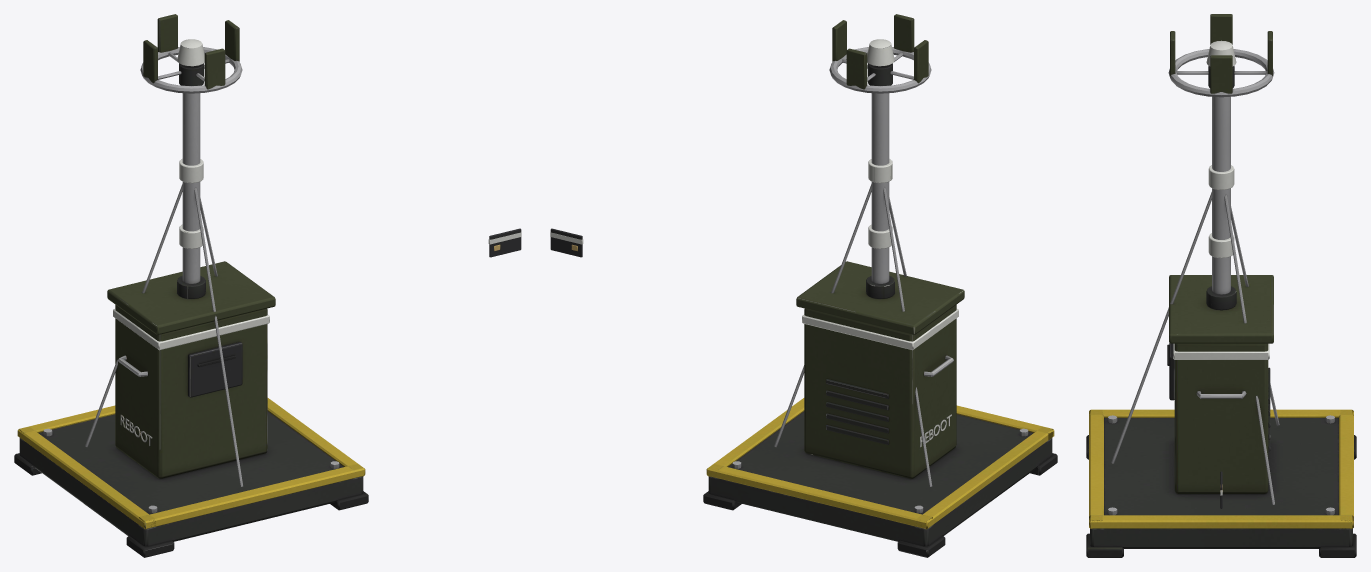
File: reboot-beacon.glb
3 views of the same model, side by side, from view 1: azimuth 30°, elevation 25°; view 2: azimuth 150°, elevation 25°; view 3: azimuth 270°, elevation 25° (orthographic). The views are drawn at different scales.
Parts seen in each view (by area): view 1: body, head, lamp, card; view 2: body, head, lamp, card; view 3: body, head, lamp.
Boxes of the visible parts, bbox=[...] form: body: bbox=[14, 93, 368, 557]; head: bbox=[140, 14, 242, 93]; lamp: bbox=[113, 159, 269, 350]; card: bbox=[488, 228, 521, 257]; body: bbox=[703, 93, 1057, 557]; head: bbox=[829, 14, 931, 93]; lamp: bbox=[802, 159, 958, 350]; card: bbox=[550, 228, 583, 257]; body: bbox=[1086, 96, 1356, 557]; head: bbox=[1168, 14, 1274, 97]; lamp: bbox=[1173, 165, 1269, 359].
Bounding box in the file's own units: 2.82 × 2.74 × 1.44.
Materials: 8 (8 with a texture image).
